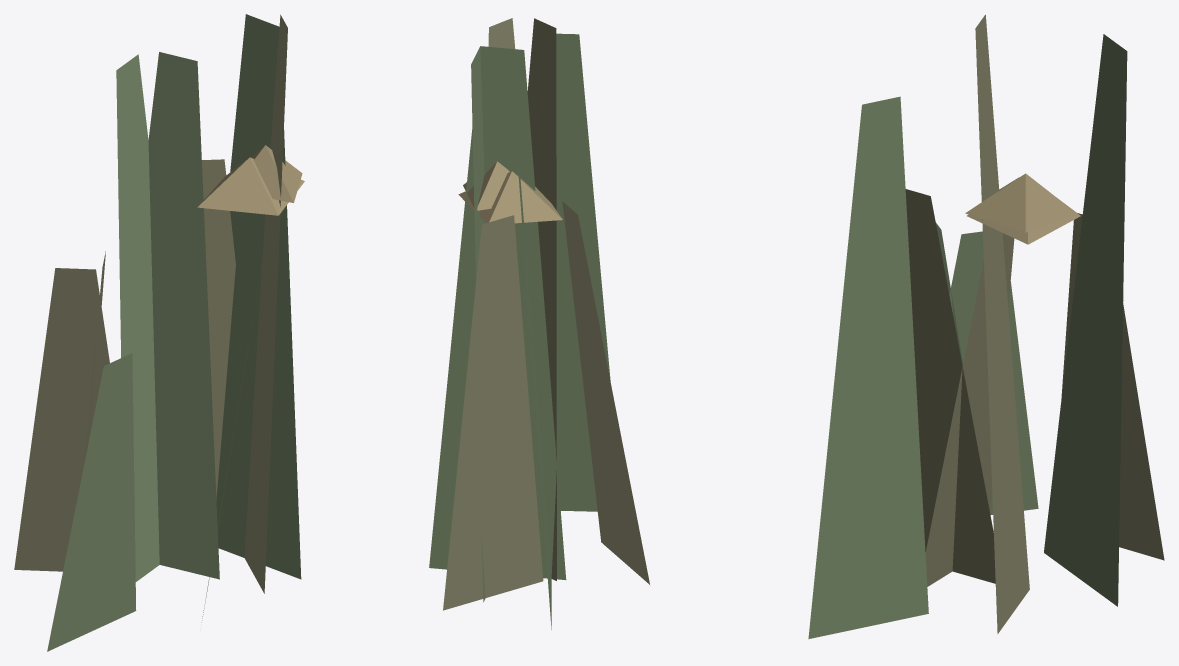
Rendered from shrub.trop.savanna_grass__winter.glb.
The picture shows the model from 3 angles, left to right: view 1: azimuth 30°, elevation 25°; view 2: azimuth 150°, elevation 25°; view 3: azimuth 270°, elevation 25°; orthographic projection. The views are drawn at different scales.
Parts seen in each view (by area): view 1: shrub.trop.savanna_grass__winter; view 2: shrub.trop.savanna_grass__winter; view 3: shrub.trop.savanna_grass__winter.
Boxes of the visible parts, x1=… form: shrub.trop.savanna_grass__winter: x1=14, y1=14, x2=304, y2=651; shrub.trop.savanna_grass__winter: x1=429, y1=18, x2=649, y2=629; shrub.trop.savanna_grass__winter: x1=808, y1=14, x2=1164, y2=639.
Size of the model in its own units: 0.7467 by 1.26 by 0.6909.
